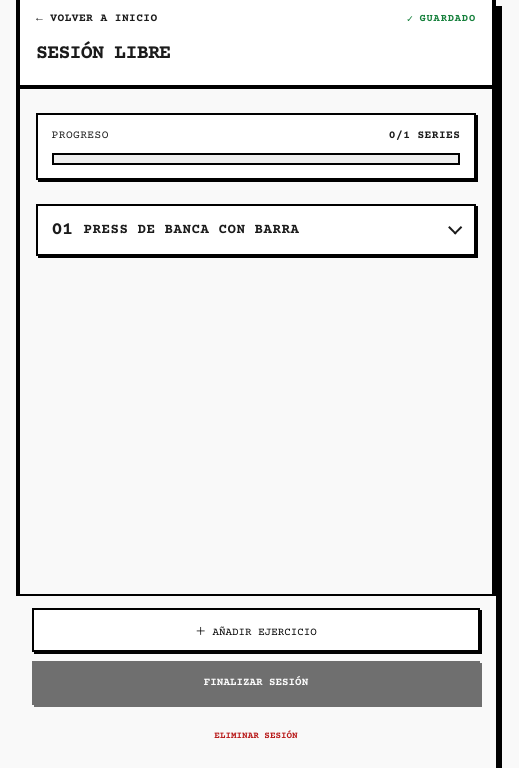
it: registrar resultados por Serie en la interfaz › los Objetivos de serie inicializan los campos de resultado sin completar la Serie
The width and height of the screenshot is (519, 768).
Click the button "01 Press de banca con barra" at x=256, y=230, box [38,206,474,254]
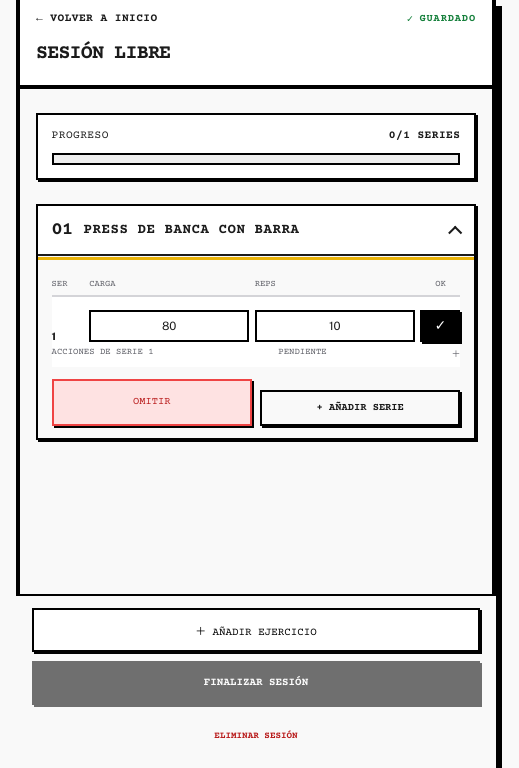
Expected: the text "Pendiente" is shown, [278,347,327,360]
Expected: the 1st field named "Carga (kg)" holds "80", [89,310,249,342]
Expected: the 2nd field named "Repeticiones" holds "10", [255,310,415,342]
